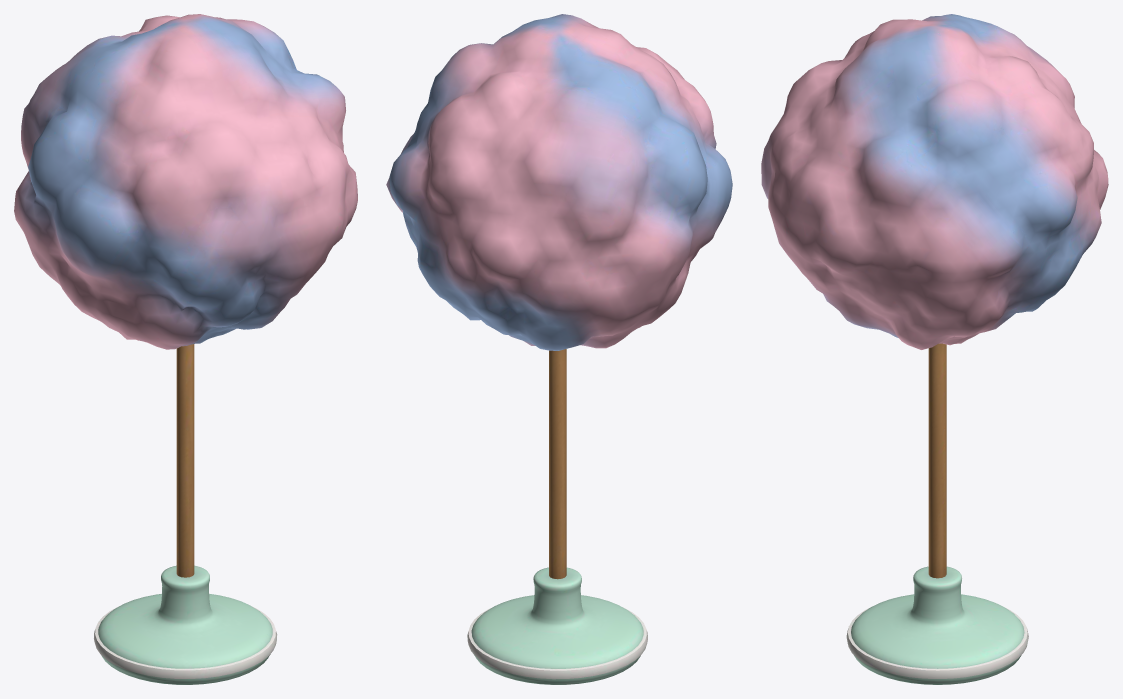
File: algodon_azucar.glb
The picture shows the model from 3 angles, left to right: view 1: azimuth 30°, elevation 25°; view 2: azimuth 150°, elevation 25°; view 3: azimuth 270°, elevation 25°; orthographic projection.
Parts seen in each view (by area): view 1: cotton-candy_body; view 2: cotton-candy_body; view 3: cotton-candy_body.
Part boxes in pixels (x1,y1,x2,y2): cotton-candy_body: (14, 14, 357, 684); cotton-candy_body: (386, 14, 732, 684); cotton-candy_body: (761, 14, 1108, 684).
Size of the model in its own units: 0.1615 by 0.3262 by 0.1644.
Materials: 1 (1 with a texture image).
